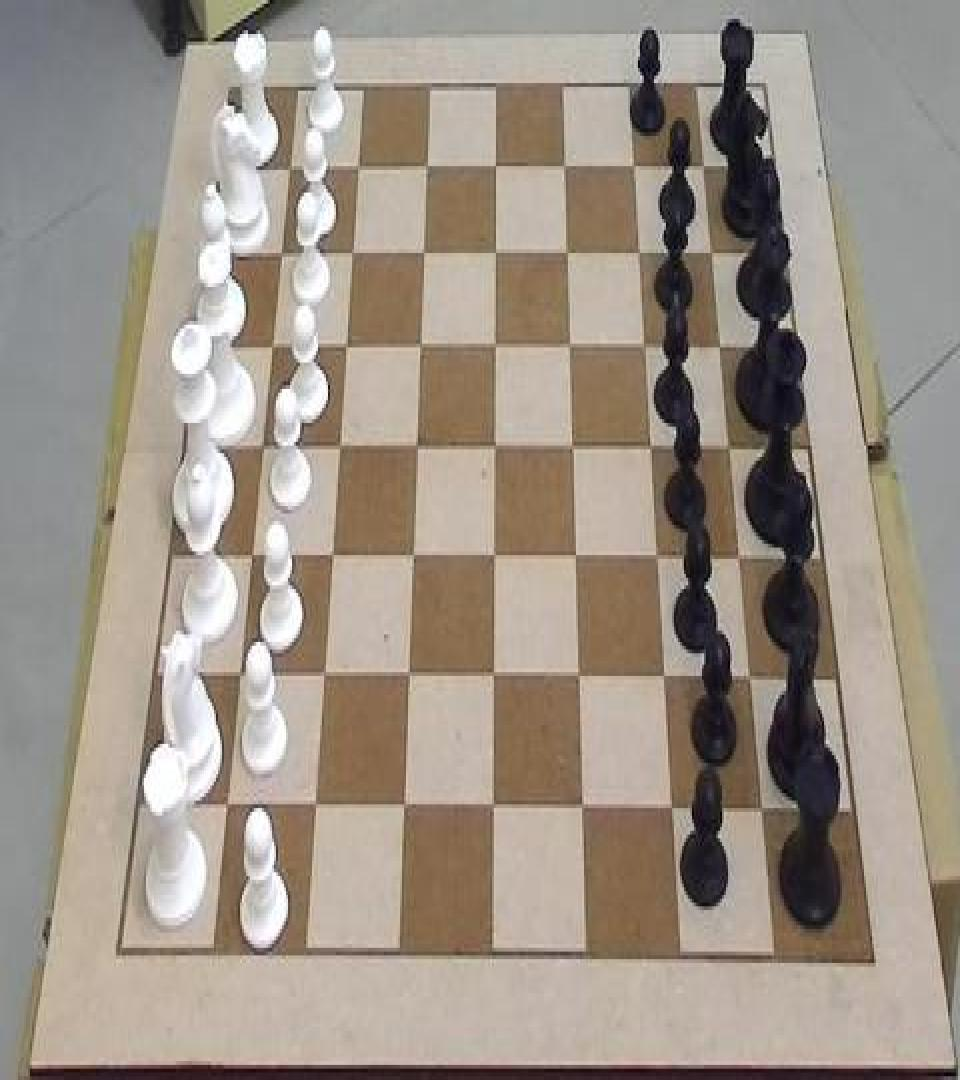xcorner: (695, 144, 715, 182), (624, 144, 644, 182), (554, 144, 574, 182), (485, 146, 505, 184), (415, 146, 435, 184), (346, 146, 366, 184), (277, 146, 297, 184), (703, 230, 723, 268), (629, 230, 649, 268), (557, 230, 577, 268), (484, 230, 504, 268), (412, 232, 432, 270), (340, 232, 360, 270), (269, 232, 289, 270), (711, 324, 731, 362), (635, 324, 655, 362), (559, 324, 579, 362), (484, 324, 504, 362), (409, 324, 429, 362), (334, 324, 354, 362), (260, 324, 280, 362), (720, 426, 740, 464), (641, 426, 661, 464), (562, 426, 582, 464), (483, 426, 503, 464), (405, 426, 425, 464), (328, 426, 348, 464), (250, 426, 270, 464), (730, 536, 750, 574), (647, 536, 667, 574), (565, 536, 585, 574), (483, 536, 503, 574), (401, 536, 421, 574), (320, 536, 340, 574), (240, 534, 260, 572), (741, 659, 761, 697), (654, 657, 674, 695), (568, 657, 588, 695), (482, 657, 502, 695), (397, 655, 417, 693), (312, 655, 332, 693), (228, 655, 248, 693), (753, 791, 773, 829), (662, 791, 682, 829), (572, 789, 592, 827), (482, 787, 502, 825), (393, 787, 413, 825), (304, 786, 324, 824), (215, 786, 235, 824)
